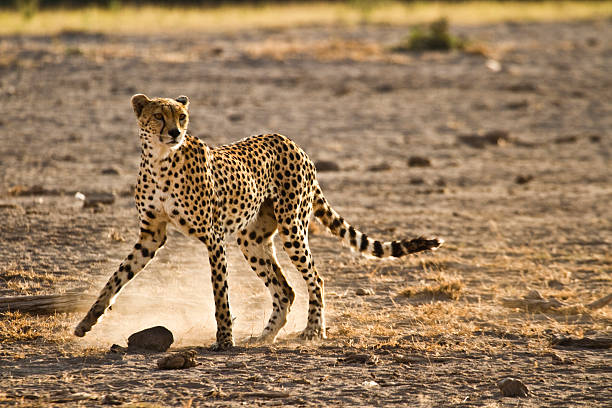cheetah: (121, 89, 207, 154)
